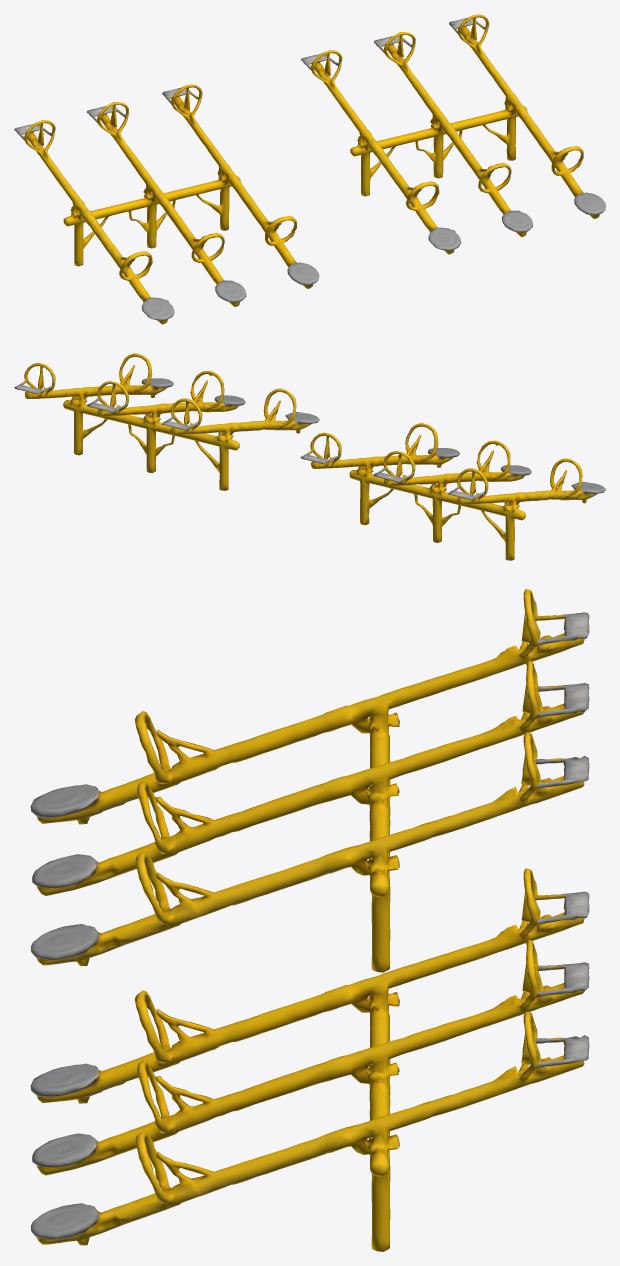
The model's file is subeybaja.obj.
3 views of the same model, one above another, from view 1: azimuth 30°, elevation 25°; view 2: azimuth 150°, elevation 25°; view 3: azimuth 270°, elevation 25° (orthographic). The views are drawn at different scales.
Visible parts, largest first — view 1: subeybaja_1110090818_texture.001, subeybaja_1110090818_texture; view 2: subeybaja_1110090818_texture, subeybaja_1110090818_texture.001; view 3: subeybaja_1110090818_texture, subeybaja_1110090818_texture.001.
Boxes of the visible parts, <box> form: subeybaja_1110090818_texture.001: <box>14,84,319,324</box>; subeybaja_1110090818_texture: <box>301,14,605,254</box>; subeybaja_1110090818_texture: <box>14,353,319,490</box>; subeybaja_1110090818_texture.001: <box>300,423,605,560</box>; subeybaja_1110090818_texture: <box>30,868,589,1251</box>; subeybaja_1110090818_texture.001: <box>30,589,589,972</box>.
Size of the model in its own units: 39.22 by 9.46 by 20.47.
1 material, 1 textured.
